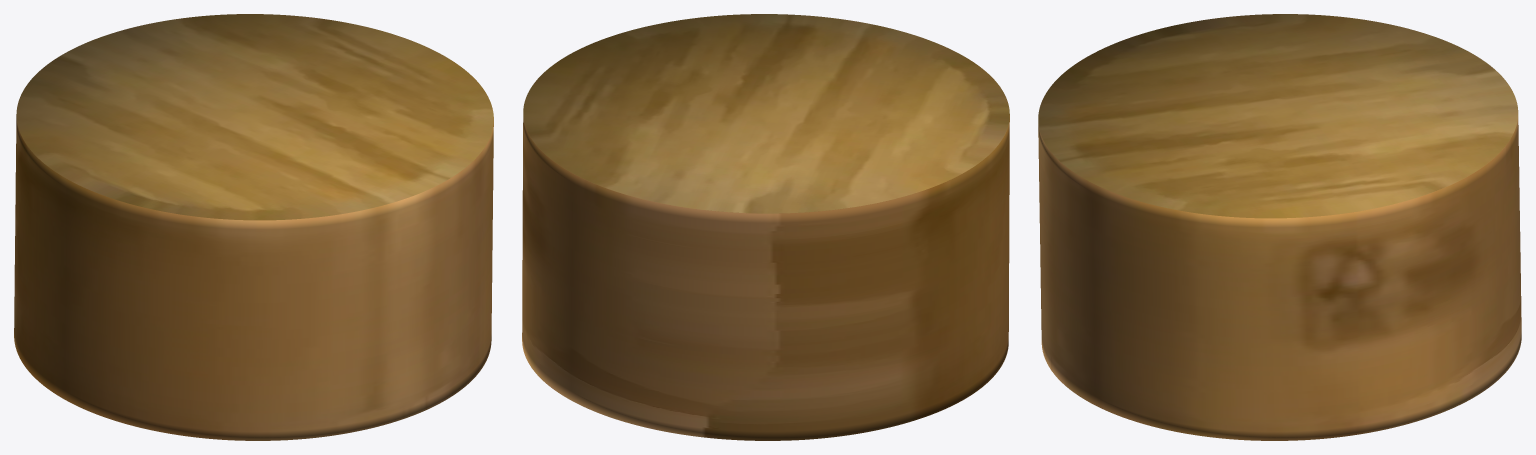
The model's file is bottle_cap.glb.
3 views of the same model, side by side, from view 1: azimuth 30°, elevation 25°; view 2: azimuth 150°, elevation 25°; view 3: azimuth 270°, elevation 25° (orthographic).
Parts seen in each view (by area): view 1: w_bottle_cap; view 2: w_bottle_cap; view 3: w_bottle_cap.
Part boxes in pixels (x1,y1,x2,y2): w_bottle_cap: (14, 14, 493, 440); w_bottle_cap: (522, 14, 1009, 440); w_bottle_cap: (1038, 14, 1521, 440).
Size of the model in its own units: 0.0492 by 0.0259 by 0.0495.
2 materials, 2 textured.
